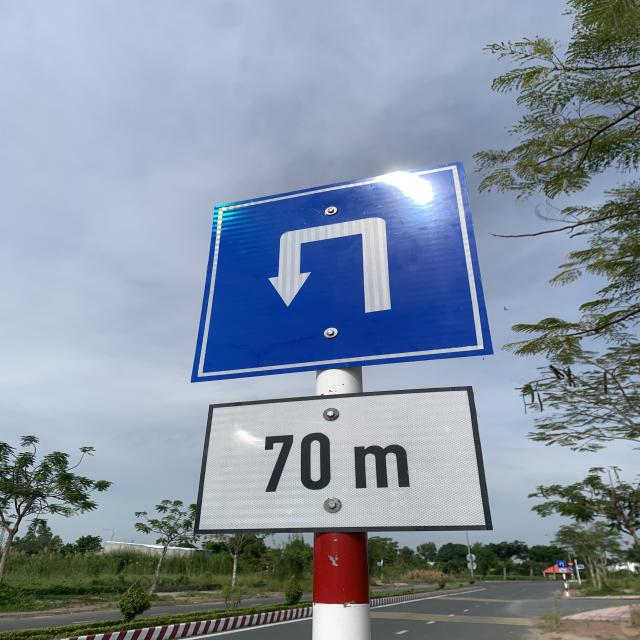Den_Giao_Thong: (189, 157, 493, 384)
